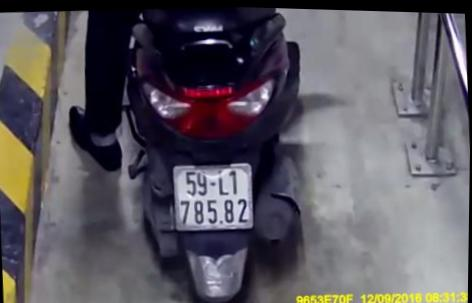LP: (170, 158, 255, 231)
